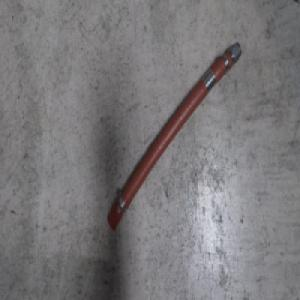Hose: (105, 37, 242, 233)
